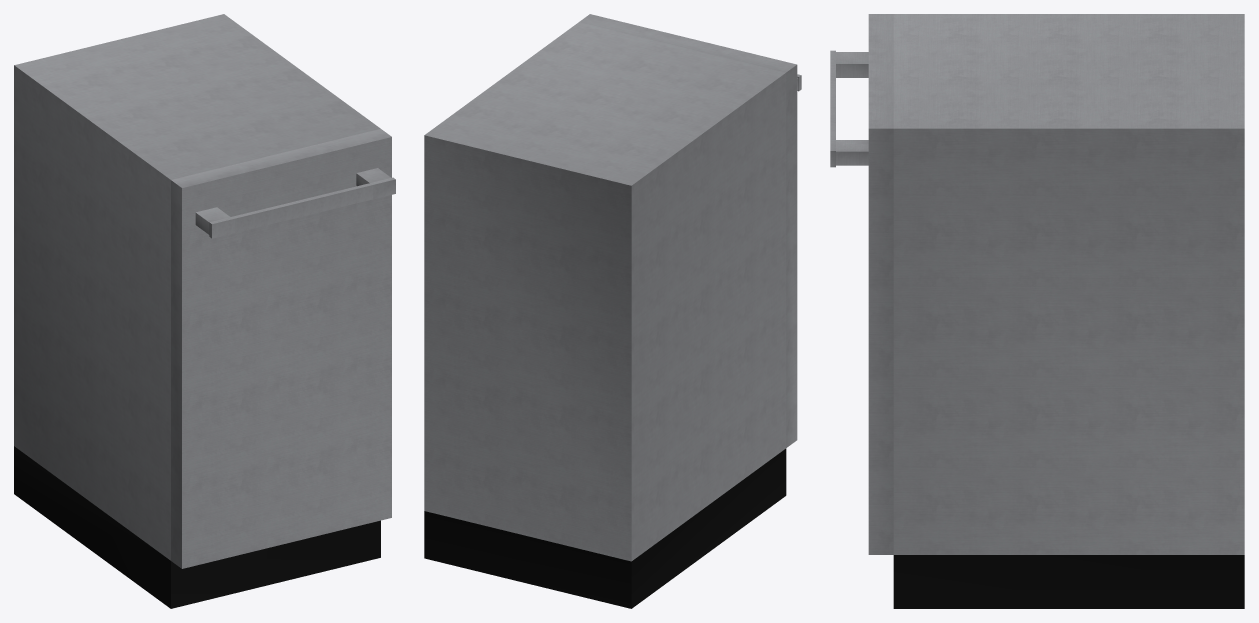
Rendered from DISHWASHER_18.glb.
3 renders of one model, left to right at view 1: azimuth 30°, elevation 25°; view 2: azimuth 150°, elevation 25°; view 3: azimuth 270°, elevation 25°, orthographic. The views are drawn at different scales.
Visible parts, largest first — view 1: Dishwasher_24__001; view 2: Dishwasher_24__001; view 3: Dishwasher_24__001.
Part boxes in pixels (x1,y1,x2,y2): Dishwasher_24__001: [14, 14, 395, 608]; Dishwasher_24__001: [424, 14, 801, 608]; Dishwasher_24__001: [830, 14, 1244, 608].
Bounding box in the file's own units: 457 × 892 × 698.
2 materials, 1 textured.
